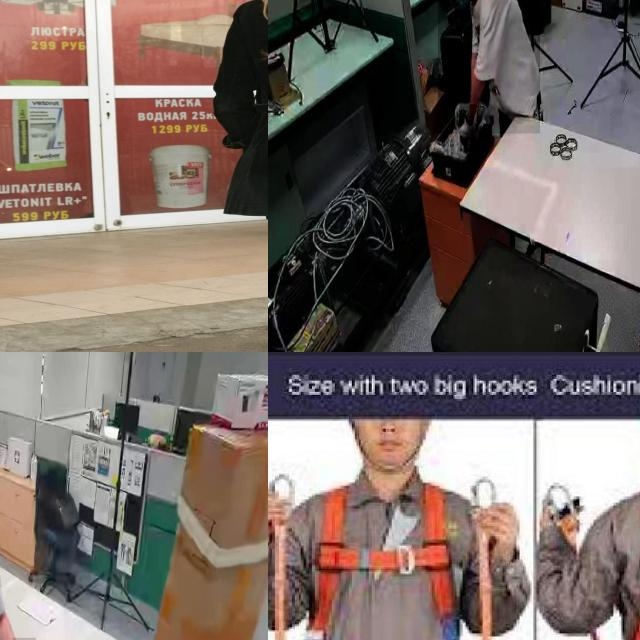Harness: (268, 469, 499, 640)
face_mask: (454, 0, 473, 16)
hand_glove: (459, 104, 477, 152)
person: (437, 0, 540, 134)
